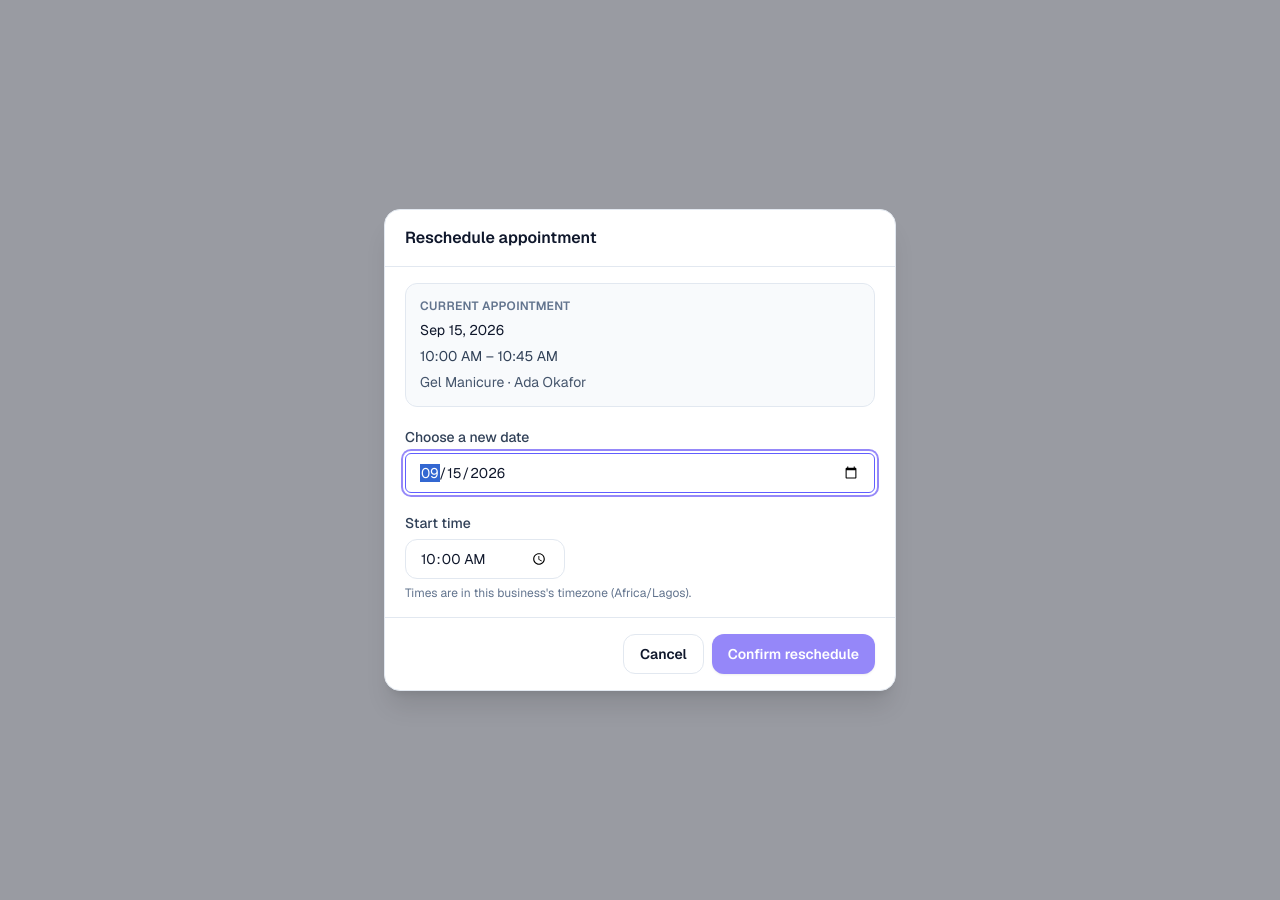
Test: RescheduleBookingDialog — 409 conflict › keeps the dialog open with a clear message and lets the user try another time
Type "2026-09-27" into the date field labelled "Choose a new date" at (640, 473), box 405,453 -> 875,493
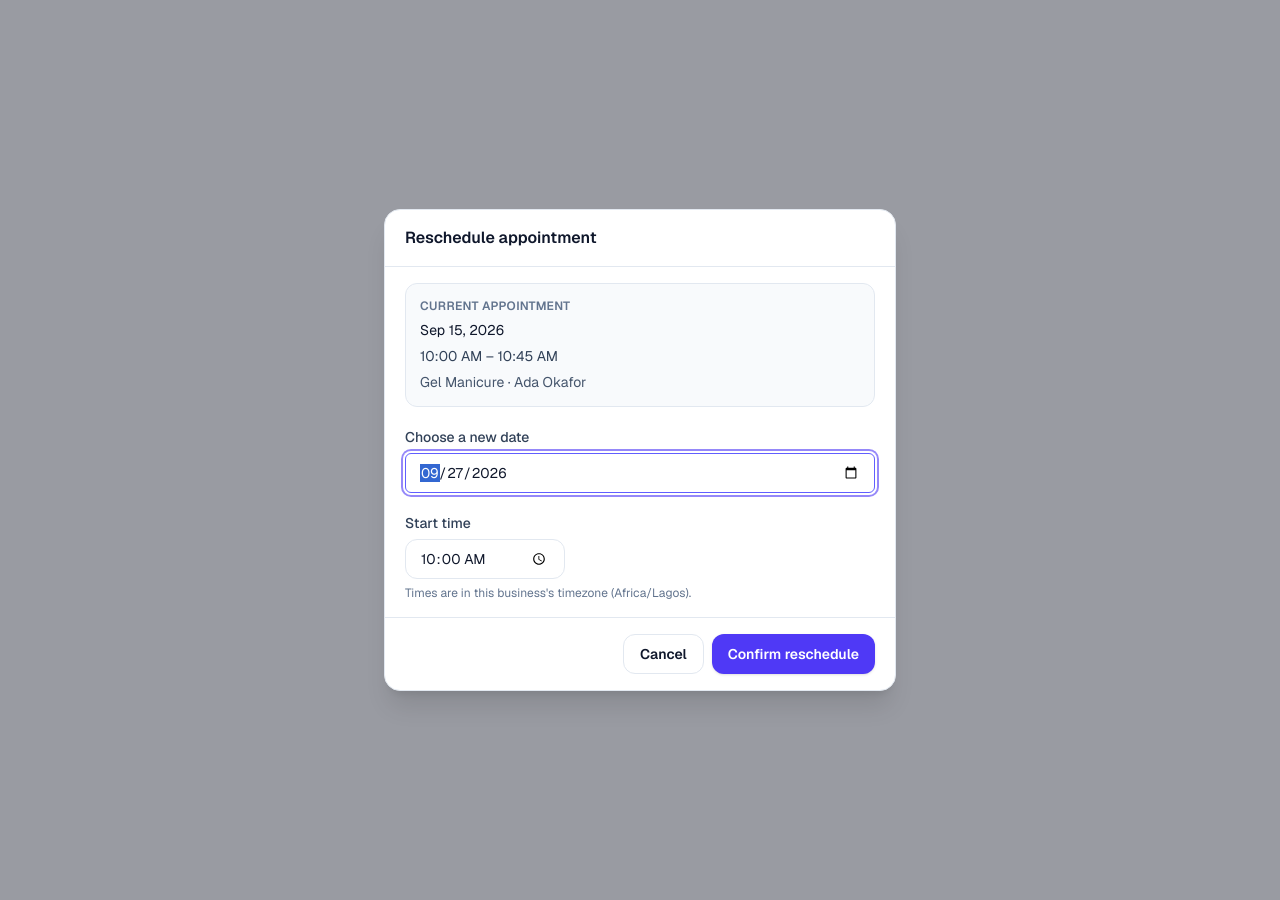
Click the button "Confirm reschedule" at (793, 654), box 712,634 -> 875,674
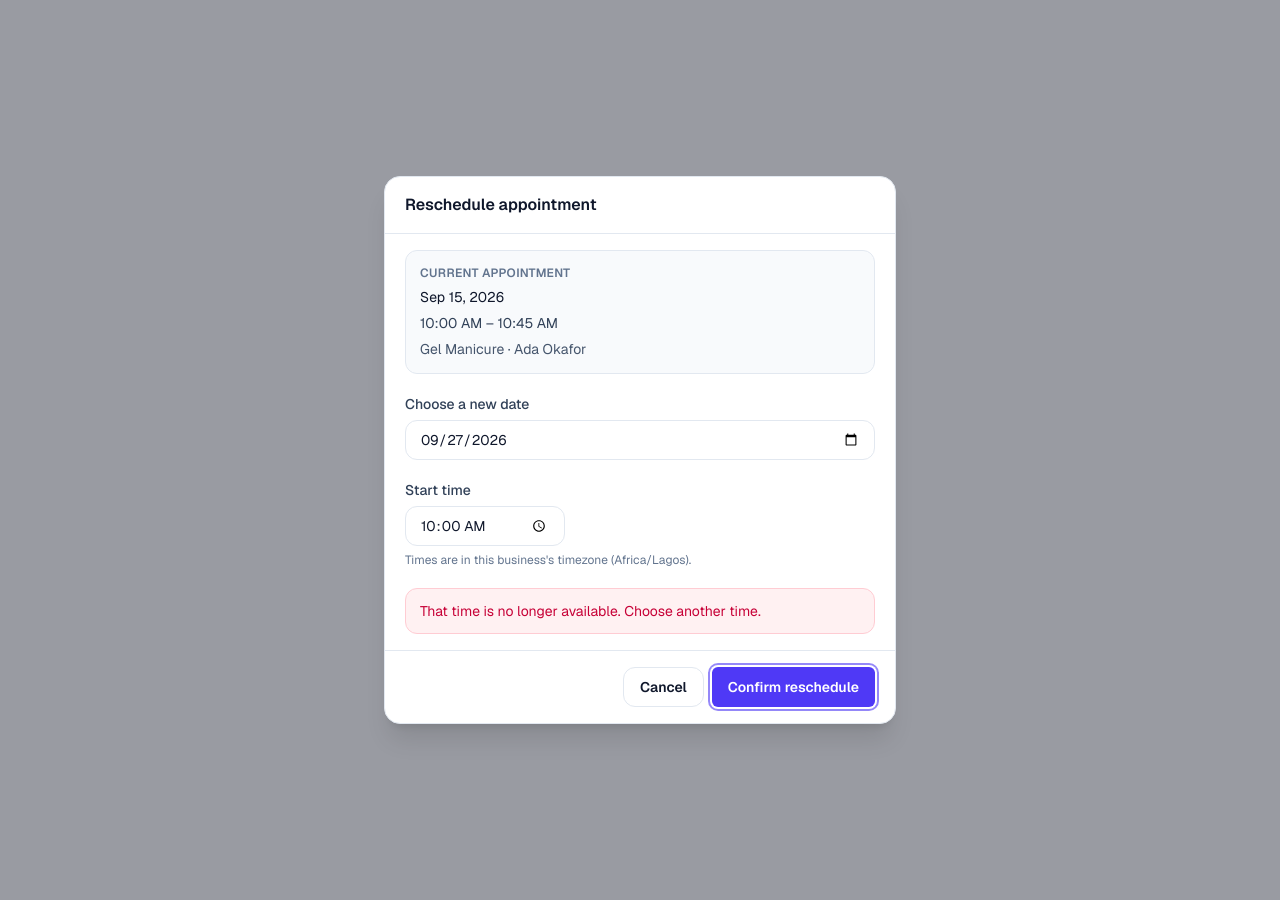
Check: the dialog "Reschedule appointment" is shown, box 384,176 -> 896,724
Check: the message shows "no longer available", box 420,602 -> 761,620
